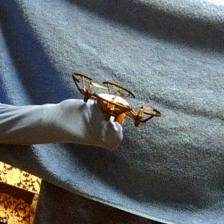drone: (71, 71, 164, 130)
